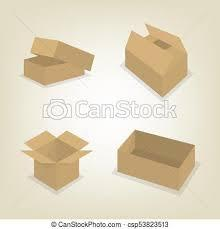Cardboard: (116, 123, 201, 196), (12, 127, 100, 193), (123, 17, 193, 97), (16, 32, 109, 90)
